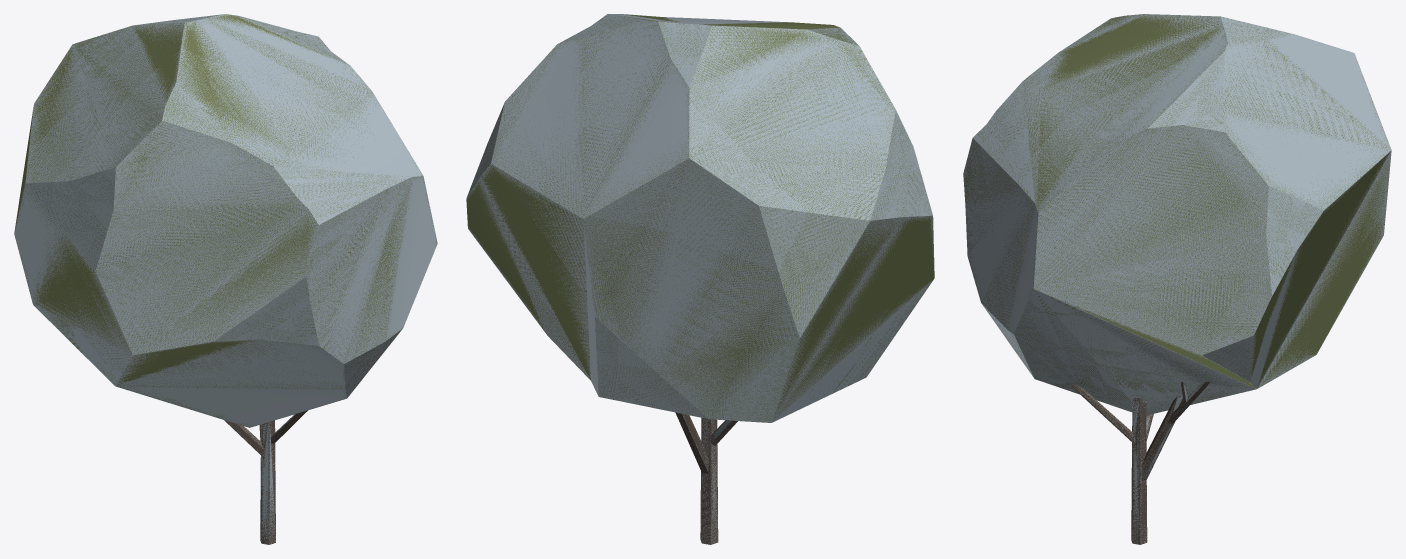
The model's file is tree.fbx.
3 renders of one model, left to right at view 1: azimuth 30°, elevation 25°; view 2: azimuth 150°, elevation 25°; view 3: azimuth 270°, elevation 25°, orthographic. The views are drawn at different scales.
Parts seen in each view (by area): view 1: Group1; view 2: Group1; view 3: Group1.
Part boxes in pixels (x1,y1,x2,y2): Group1: (14,14,437,544); Group1: (466,14,934,544); Group1: (963,14,1391,544).
Bounding box in the file's own units: 125 × 169 × 131.
